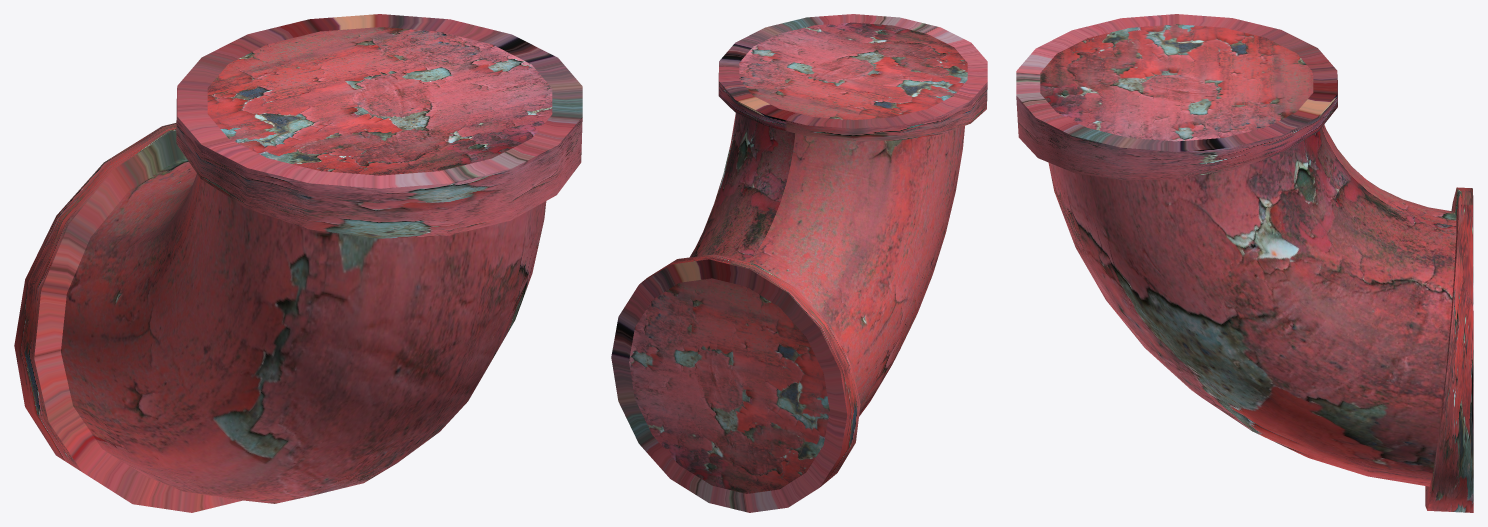
Rendered from bendy pipe red.obj.
The picture shows the model from 3 angles, left to right: view 1: azimuth 30°, elevation 25°; view 2: azimuth 150°, elevation 25°; view 3: azimuth 270°, elevation 25°; orthographic projection. The views are drawn at different scales.
Parts seen in each view (by area): view 1: Bendy_pipe; view 2: Bendy_pipe; view 3: Bendy_pipe.
Part boxes in pixels (left/top/right/bottom): Bendy_pipe: left=14, top=14, right=582, bottom=512; Bendy_pipe: left=611, top=14, right=987, bottom=512; Bendy_pipe: left=1016, top=14, right=1473, bottom=512.
Bounding box in the file's own units: 35.14 × 49.18 × 49.32.
